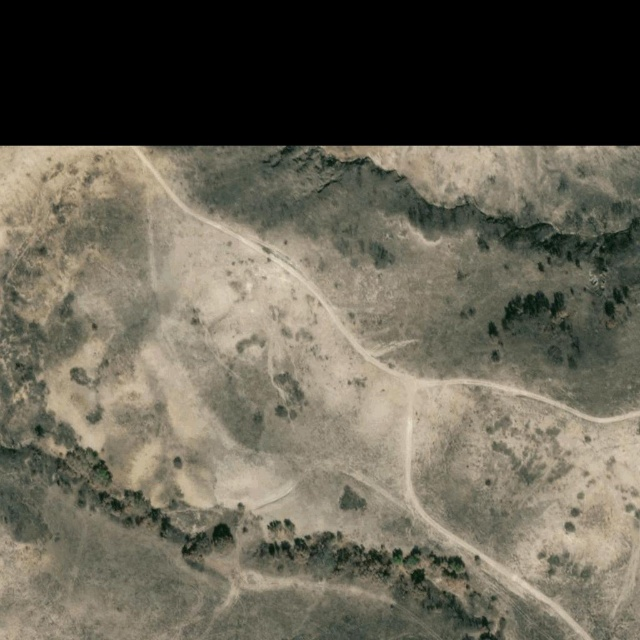vegetation: (250, 517, 506, 640), (0, 444, 240, 573), (487, 290, 580, 366)
